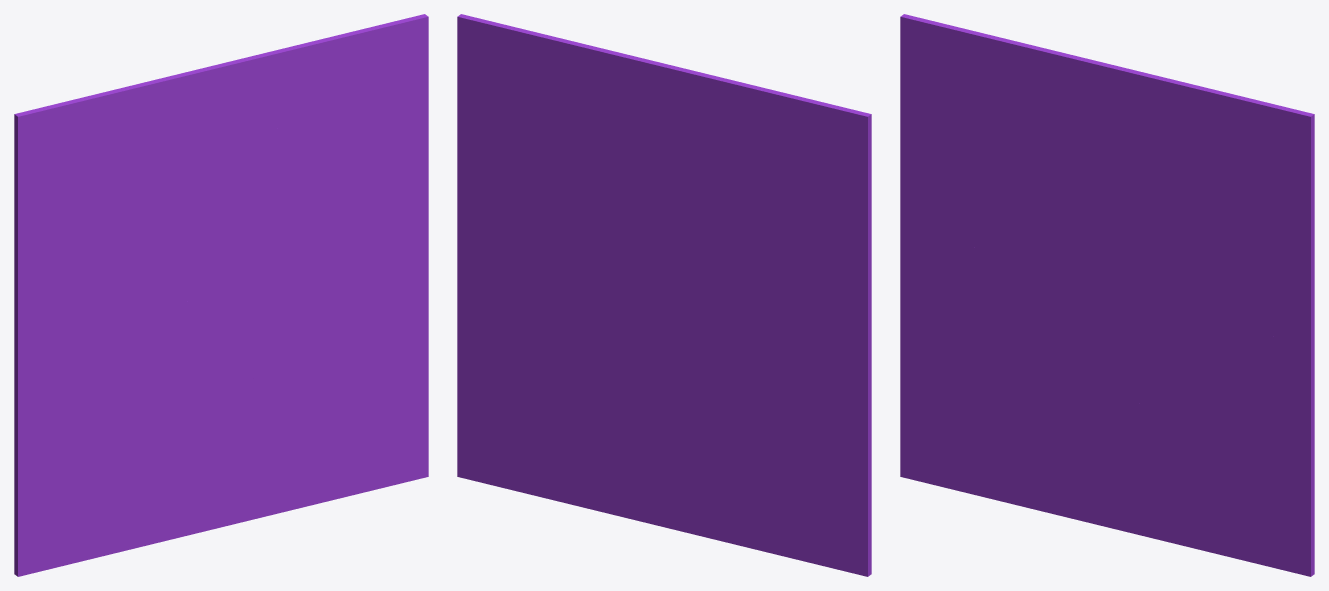
Rendered from Window_5_chunks.fbx.
3 views of the same model, side by side, from view 1: azimuth 30°, elevation 25°; view 2: azimuth 150°, elevation 25°; view 3: azimuth 330°, elevation 25° (orthographic).
Visible parts, largest first — view 1: Window_5_1, Window_5_2, Window_5_8, Window_5_5, Window_5_9, Window_5_7, Window_5_4, Window_5_3, Window_5_6; view 2: Window_5_1, Window_5_8, Window_5_2, Window_5_4, Window_5_5, Window_5_9, Window_5_7, Window_5_3, Window_5_6, Window_5_0; view 3: Window_5_1, Window_5_2, Window_5_8, Window_5_5, Window_5_9, Window_5_7, Window_5_4, Window_5_3, Window_5_6.
Part boxes in pixels (x1,y1,x2,y2): Window_5_1: (14,298,302,576); Window_5_2: (235,246,384,507); Window_5_8: (14,83,183,313); Window_5_5: (335,14,428,257); Window_5_9: (137,26,385,184); Window_5_7: (14,184,234,318); Window_5_4: (355,252,428,487); Window_5_3: (223,113,344,329); Window_5_6: (192,75,356,278); Window_5_1: (582,296,871,576); Window_5_8: (697,85,871,315); Window_5_2: (518,257,647,506); Window_5_4: (457,245,547,491); Window_5_5: (457,14,547,251); Window_5_9: (503,24,751,179); Window_5_7: (660,190,871,315); Window_5_3: (538,116,660,333); Window_5_6: (542,77,699,276); Window_5_0: (493,25,670,299); Window_5_1: (900,218,1184,545); Window_5_2: (1117,305,1266,565); Window_5_8: (900,14,1065,208); Window_5_5: (1217,105,1314,357); Window_5_9: (1019,44,1268,169); Window_5_7: (900,164,1116,297); Window_5_4: (1237,316,1314,576); Window_5_3: (1105,167,1227,335); Window_5_6: (1074,140,1239,283).
Size of the model in its own units: 1728 by 1851 by 27.2.
